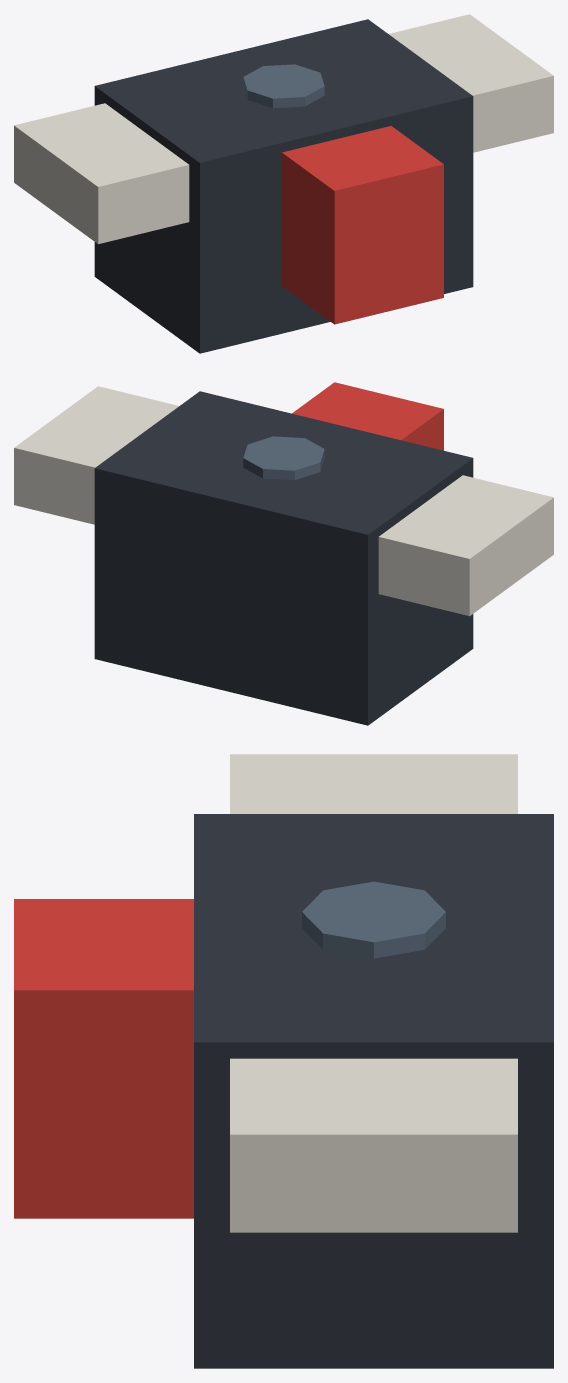
The model's file is robot_spine_segment.glb.
The picture shows the model from 3 angles, top to bottom: view 1: azimuth 30°, elevation 25°; view 2: azimuth 150°, elevation 25°; view 3: azimuth 270°, elevation 25°; orthographic projection. The views are drawn at different scales.
Visible parts, largest first — view 1: robot_spine_segment_steelDark, robot_spine_segment_armor, robot_spine_segment_red, robot_spine_segment_steel; view 2: robot_spine_segment_steelDark, robot_spine_segment_armor, robot_spine_segment_red, robot_spine_segment_steel; view 3: robot_spine_segment_steelDark, robot_spine_segment_armor, robot_spine_segment_red, robot_spine_segment_steel.
Boxes of the visible parts, x1,y1,x2,y2 form: robot_spine_segment_steelDark: [94, 19, 473, 353]; robot_spine_segment_armor: [14, 14, 553, 244]; robot_spine_segment_red: [282, 126, 443, 324]; robot_spine_segment_steel: [243, 64, 324, 108]; robot_spine_segment_steelDark: [94, 391, 473, 725]; robot_spine_segment_armor: [14, 386, 553, 616]; robot_spine_segment_red: [292, 382, 443, 450]; robot_spine_segment_steel: [243, 436, 324, 480]; robot_spine_segment_steelDark: [194, 814, 553, 1368]; robot_spine_segment_armor: [230, 754, 517, 1232]; robot_spine_segment_red: [14, 899, 193, 1218]; robot_spine_segment_steel: [302, 881, 445, 958].
Bounding box in the file's own units: 5 × 2.2 × 3.
